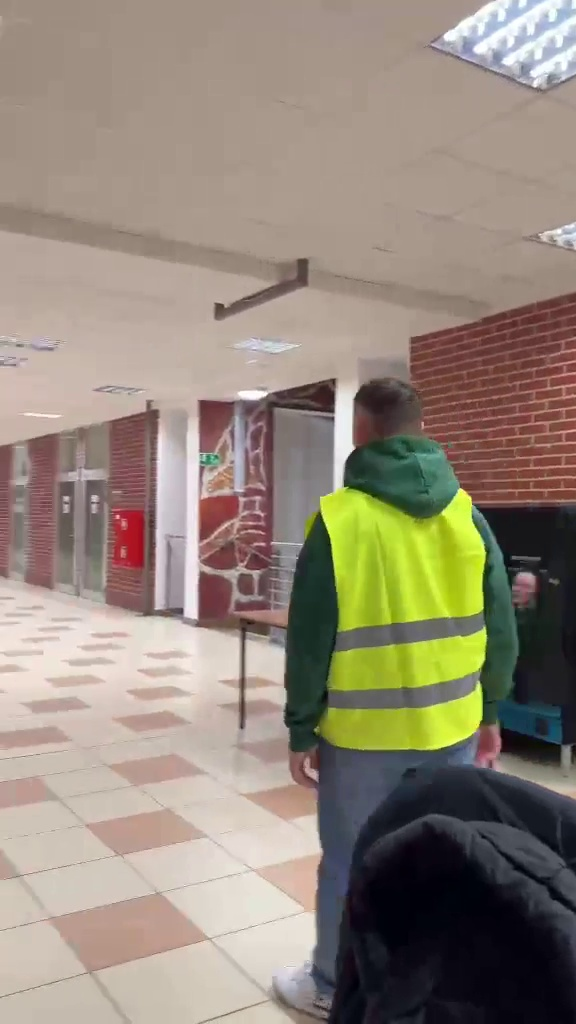vest: (283, 378, 525, 1005)
